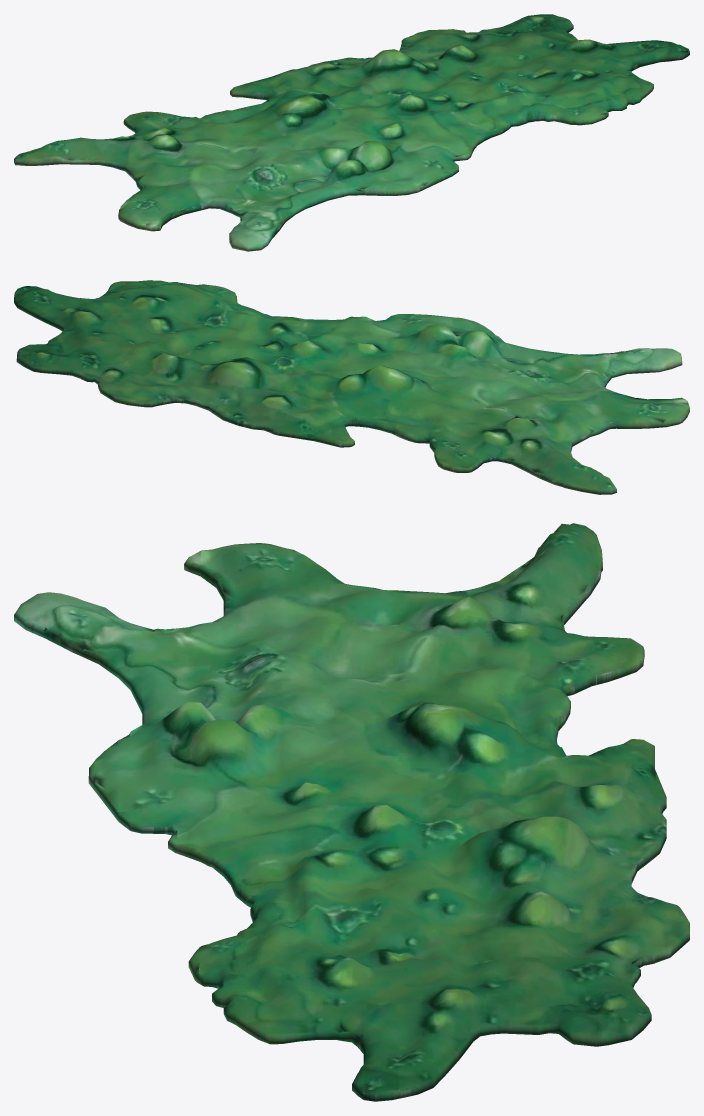
The model's file is assetbundle-piece-10.glb.
3 views of the same model, one above another, from view 1: azimuth 30°, elevation 25°; view 2: azimuth 150°, elevation 25°; view 3: azimuth 270°, elevation 25° (orthographic). The views are drawn at different scales.
Parts seen in each view (by area): view 1: default; view 2: default; view 3: default.
Part boxes in pixels (box(x1,y1,x2,y2)): default: box(14, 14, 689, 251); default: box(14, 280, 689, 494); default: box(14, 523, 689, 1101).
Bounding box in the file's own units: 7.24 × 0.3312 × 3.63.
1 material, 1 textured.
